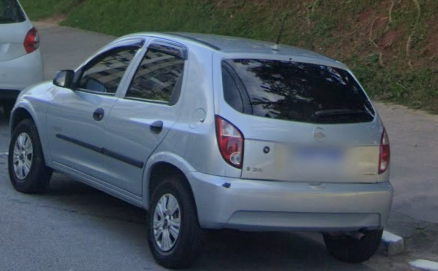car: (8, 32, 392, 266)
